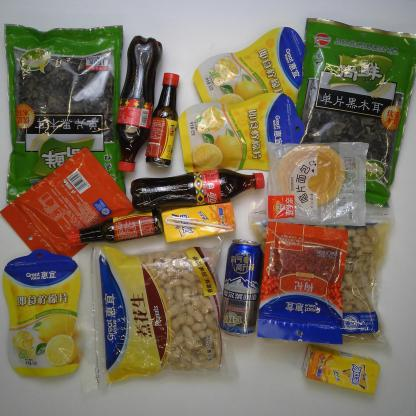Alcohol: (216, 238, 264, 338)
Dessert: (262, 141, 371, 230)
Dried Food: (74, 232, 240, 396), (293, 17, 416, 209), (1, 21, 127, 207), (245, 205, 397, 354)
Dried Fruit: (0, 145, 135, 258), (254, 220, 350, 346), (0, 248, 83, 380), (176, 92, 305, 174), (192, 26, 306, 107)
Drink: (113, 35, 164, 174), (129, 168, 265, 211), (300, 342, 382, 396), (159, 201, 237, 245)
Seasoner: (66, 208, 166, 251), (144, 72, 182, 169)
